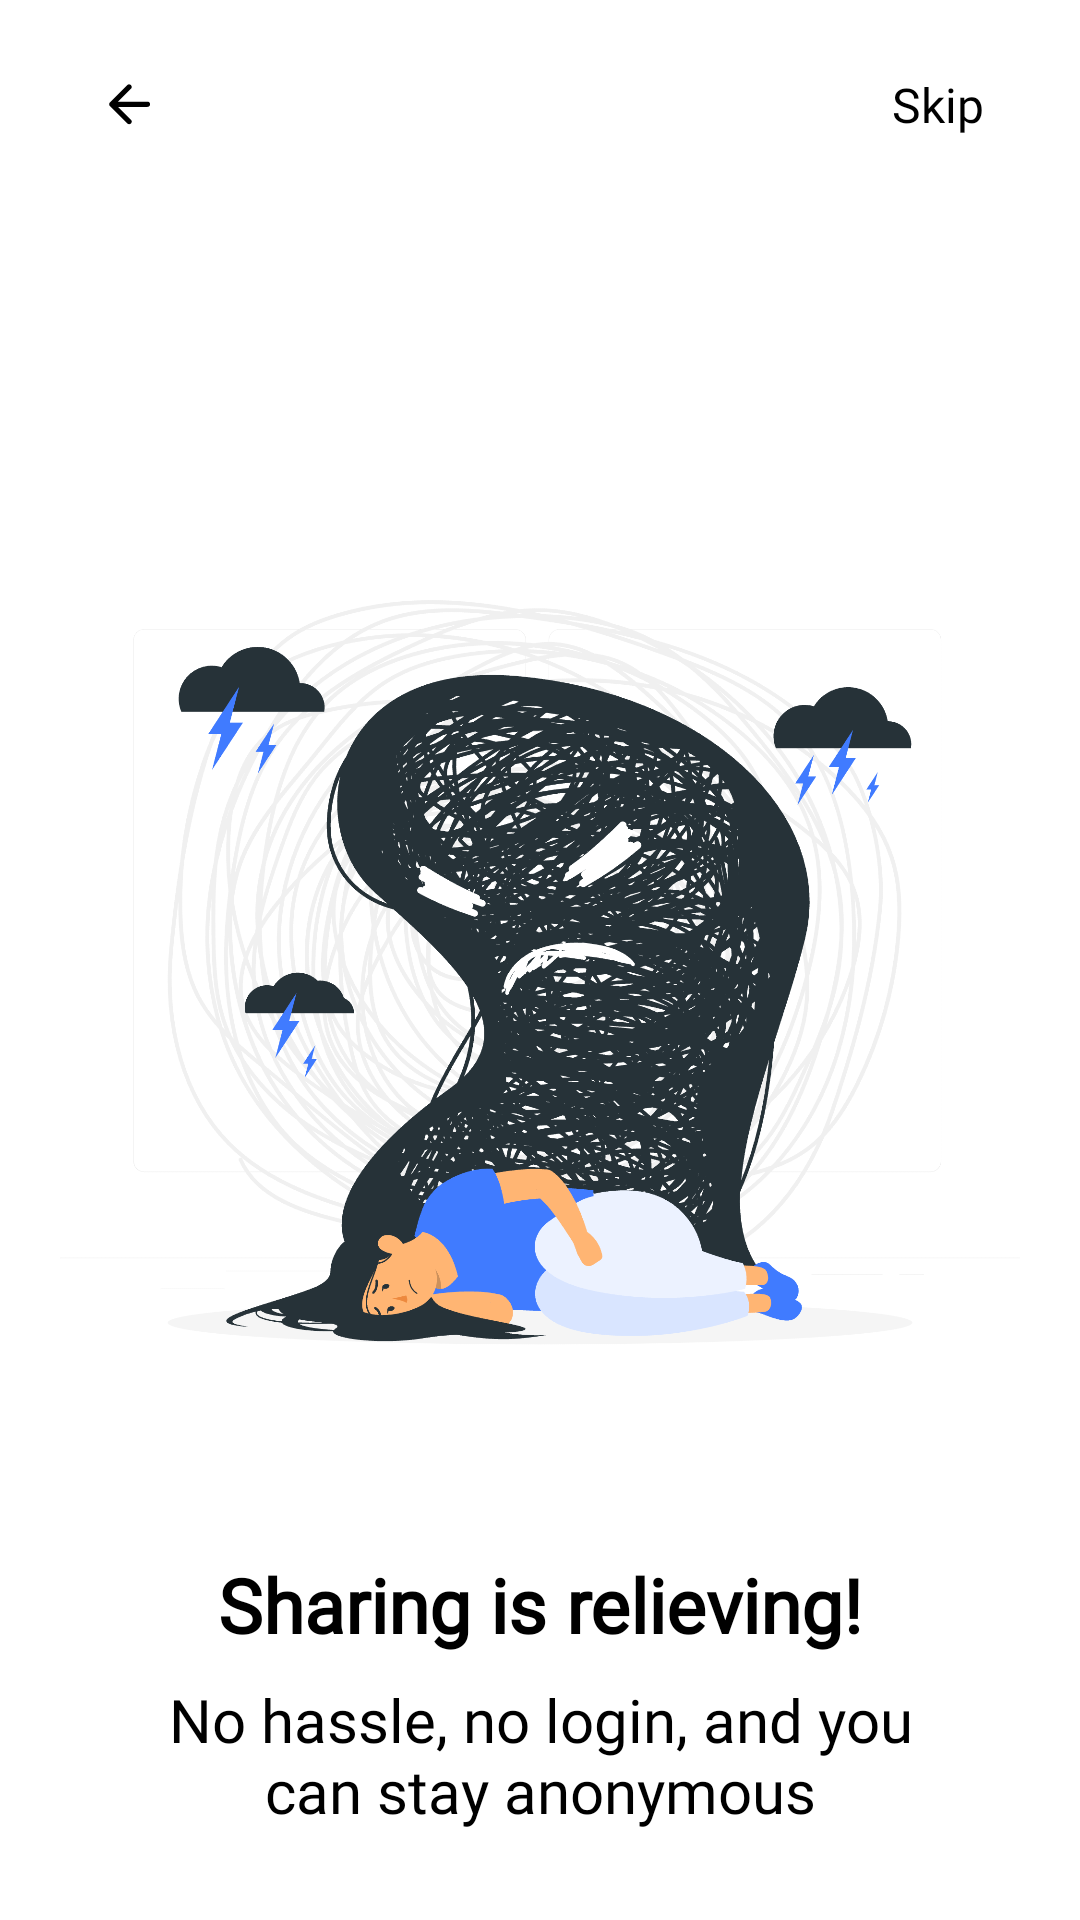

Where to tap for icons on this 1080*1920 app screen, as point (x, y):
back: point (129, 104)
